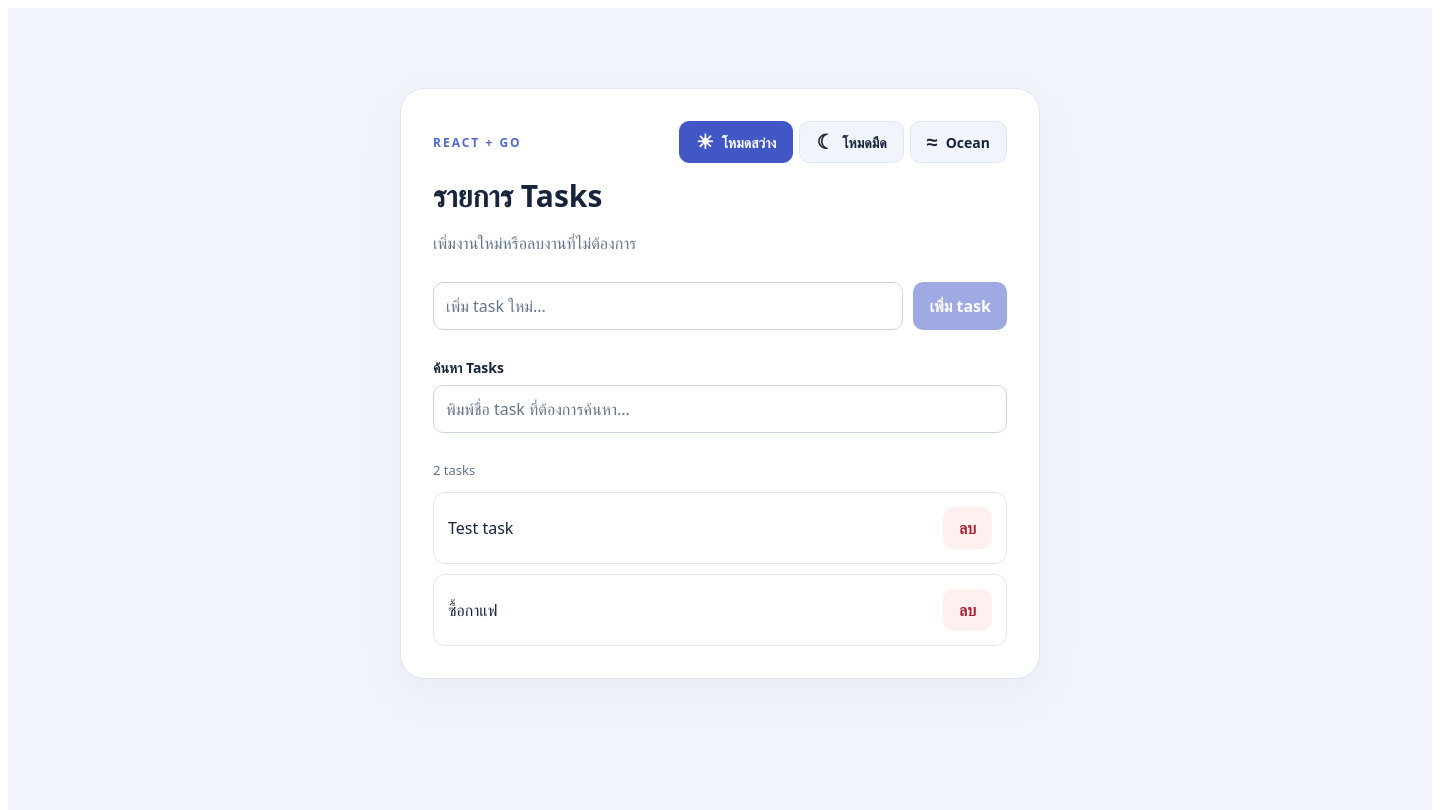
Test: App › filters tasks without case sensitivity or extra API requests
Expected: the text "Test task" is shown, [448,517,513,539]
Type "  TEST  " into the search field labelled "ค้นหา Tasks" at (720, 409), box [433,385,1007,433]
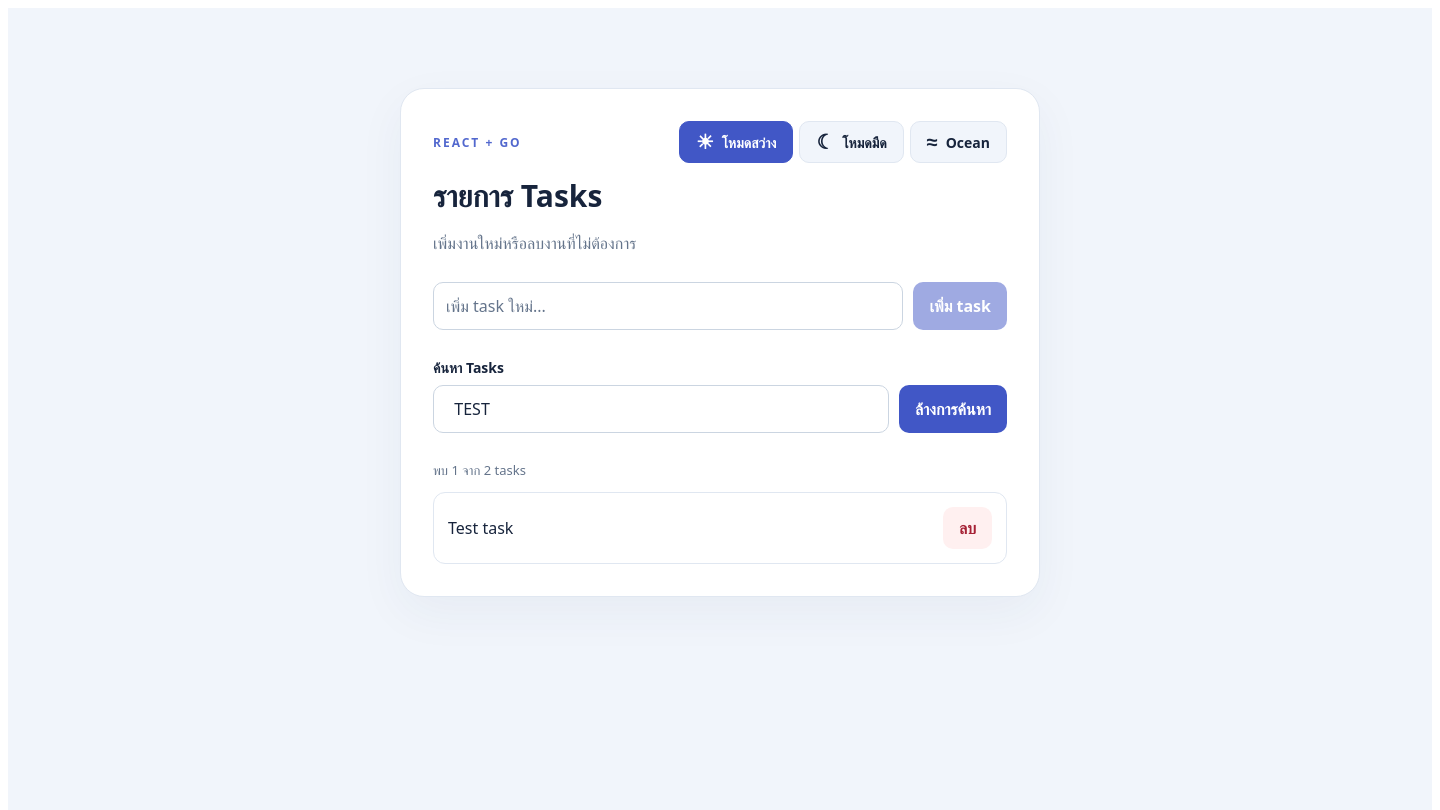
Expected: the text "Test task" is shown, [448,517,513,539]
Now the text "ซื้อกาแฟ" is gone
Now the message reads "พบ 1 จาก 2 tasks", box [433,461,526,479]
Replace the text in the search field with "กาแฟ" at (661, 409), box [433,385,889,433]
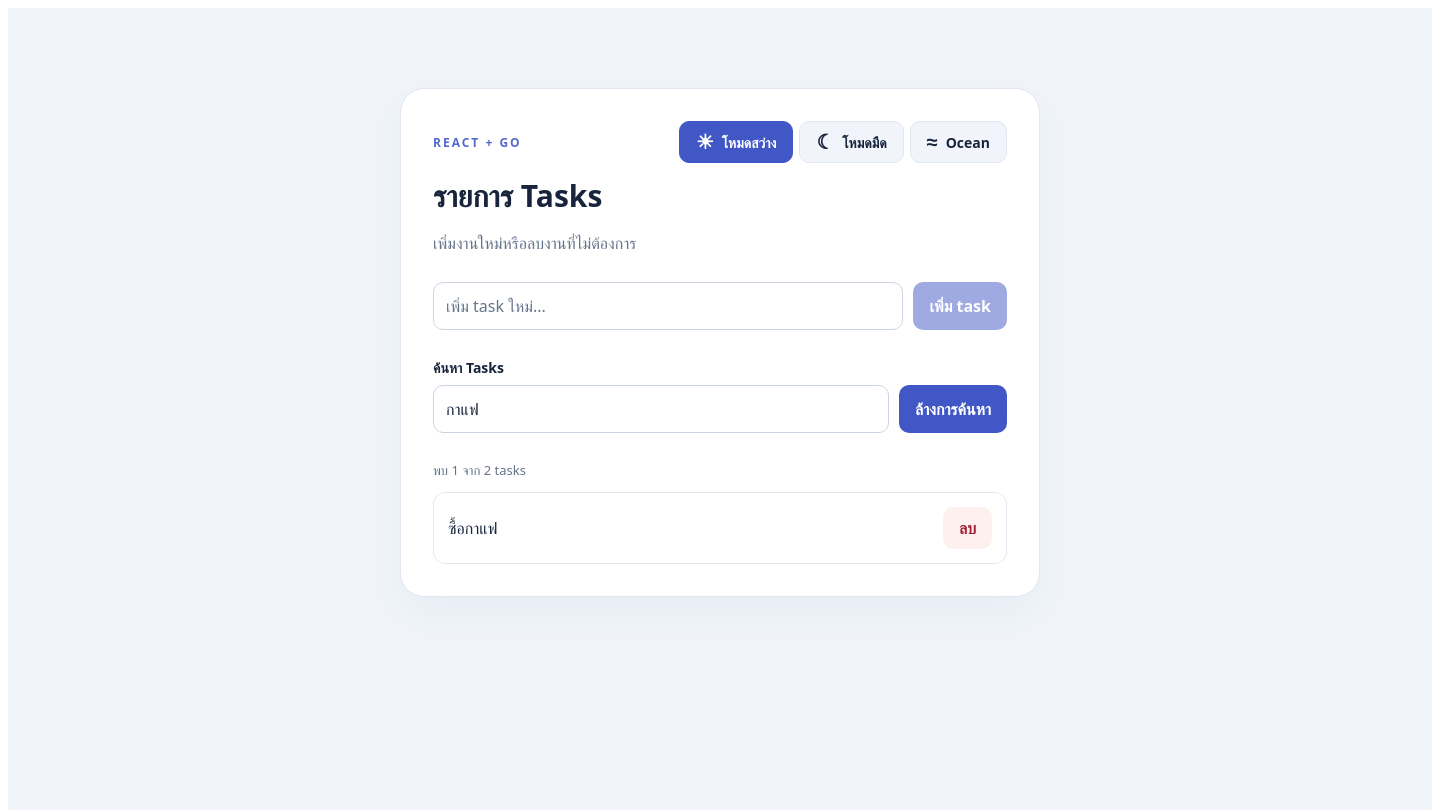
Now the text "ซื้อกาแฟ" is shown, box [448,517,497,539]
Now the text "Test task" is gone
Click the button "ล้างการค้นหา" at (953, 409), box [899,385,1007,433]
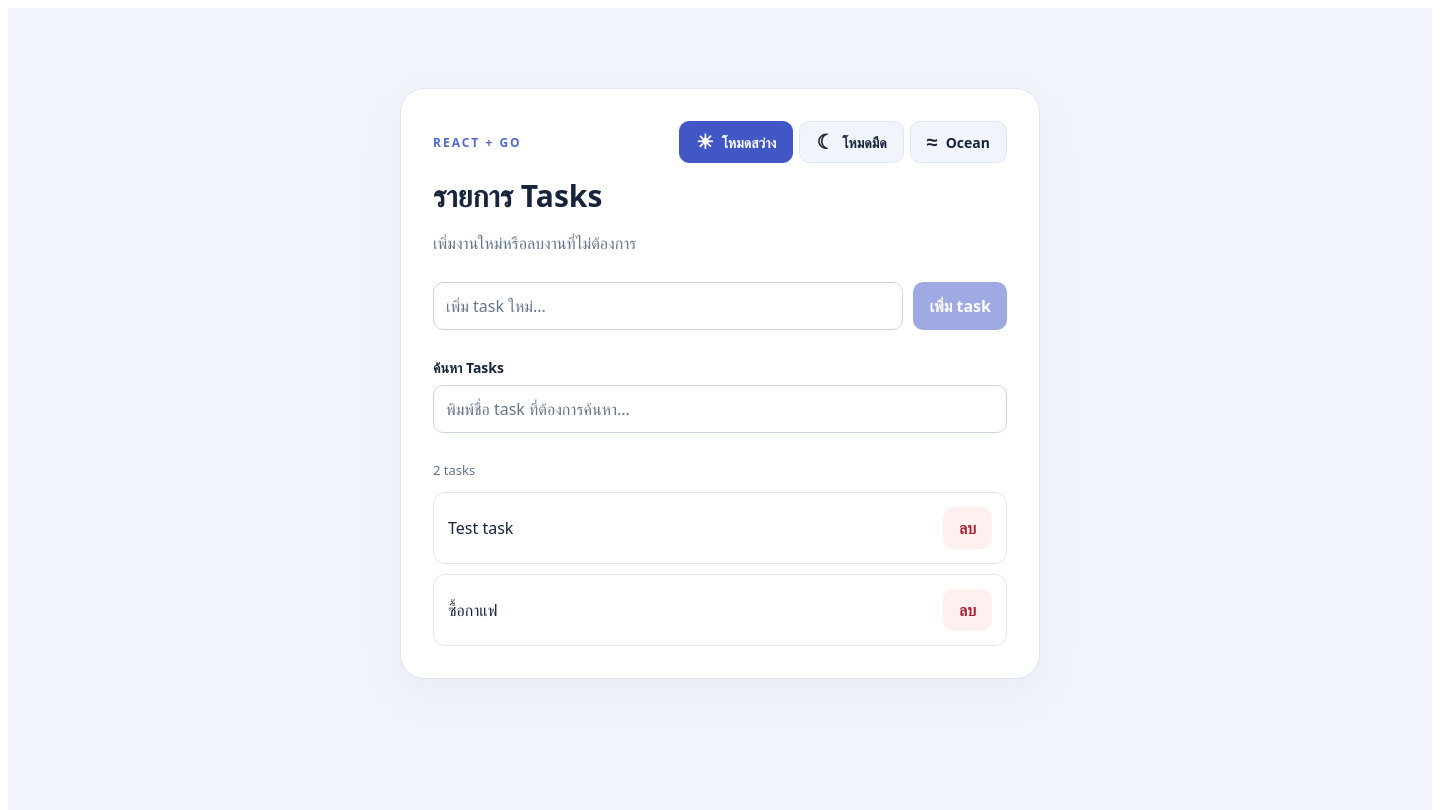
Now the search field is empty, box [433,385,1007,433]
Now the number of list items is 2, box [433,492,1007,564]; [433,574,1007,646]
Now the message reads "2 tasks", box [433,461,475,479]
